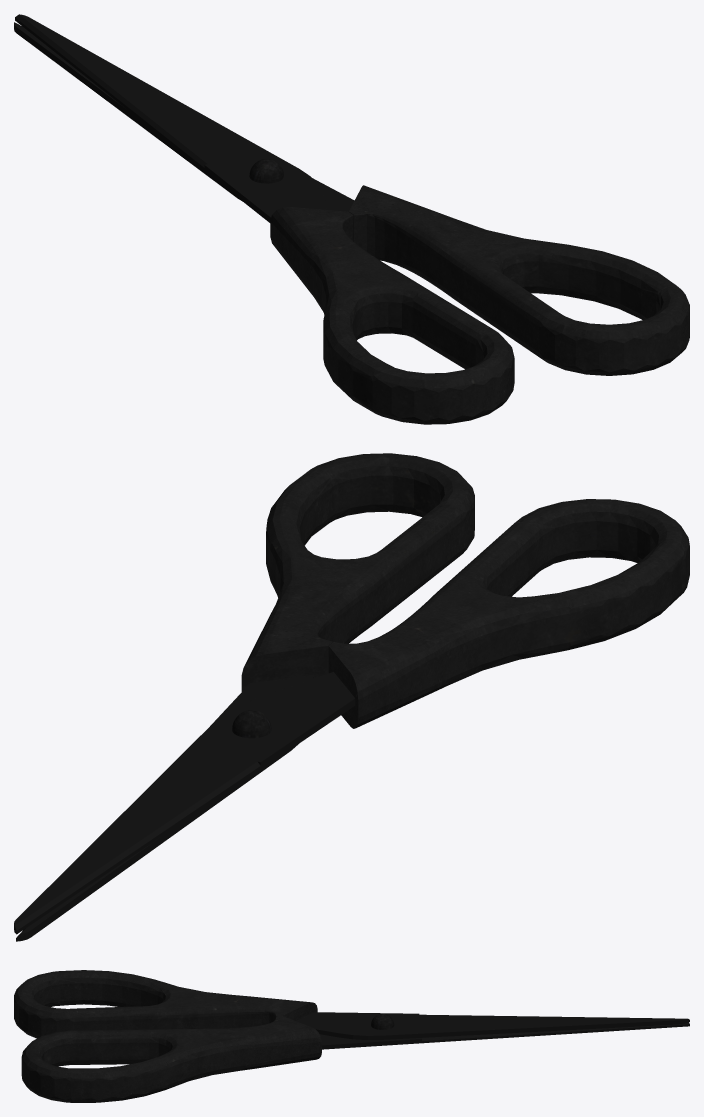
File: Forbici.obj
3 renders of one model, top to bottom at view 1: azimuth 30°, elevation 25°; view 2: azimuth 150°, elevation 25°; view 3: azimuth 270°, elevation 25°, orthographic. The views are drawn at different scales.
Visible parts, largest first — view 1: Forbici01; view 2: Forbici01; view 3: Forbici01.
Boxes of the visible parts, x1,y1,x2,y2 form: Forbici01: (14, 14, 689, 424); Forbici01: (14, 453, 689, 941); Forbici01: (14, 970, 689, 1102).
Bounding box in the file's own units: 4.26 × 0.5906 × 11.4.
